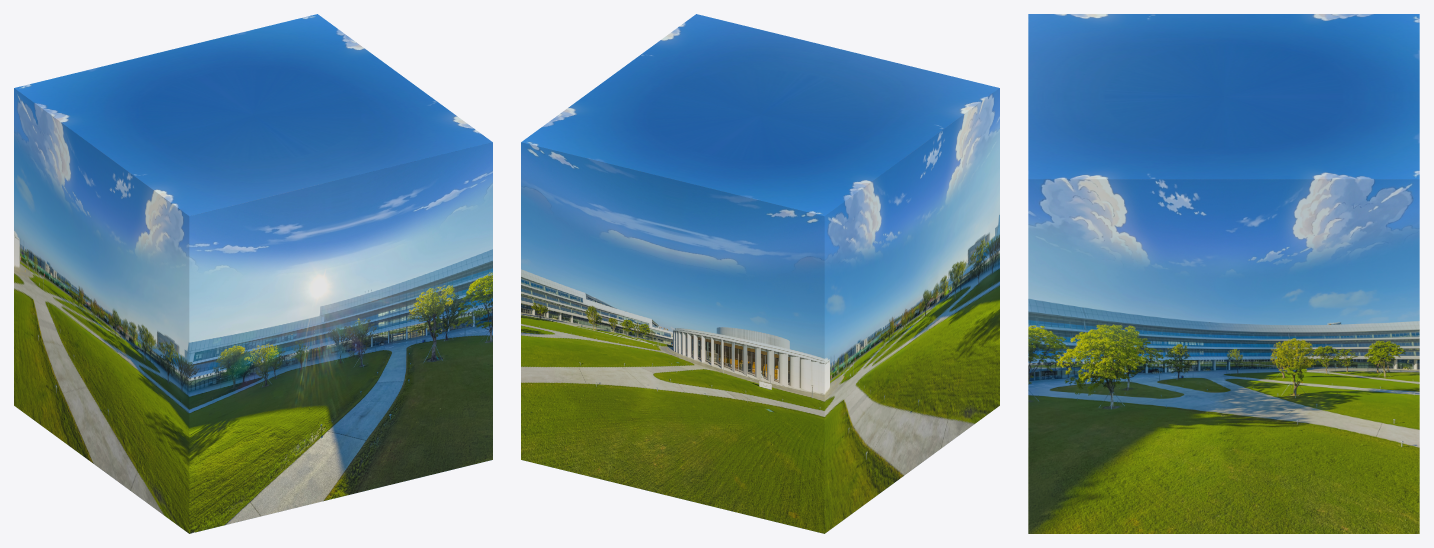
File: yungu_colonnade.glb
3 renders of one model, left to right at view 1: azimuth 30°, elevation 25°; view 2: azimuth 150°, elevation 25°; view 3: azimuth 270°, elevation 25°, orthographic. The views are drawn at different scales.
Visible parts, largest first — view 1: 远景 · 云谷中心草坪; view 2: 远景 · 云谷中心草坪; view 3: 远景 · 云谷中心草坪.
Boxes of the visible parts, bbox=[...] form: 远景 · 云谷中心草坪: bbox=[14, 14, 492, 533]; 远景 · 云谷中心草坪: bbox=[521, 14, 999, 533]; 远景 · 云谷中心草坪: bbox=[1028, 14, 1419, 533].
Bounding box in the file's own units: 360 × 360 × 360.
Materials: 16 (10 with a texture image).
